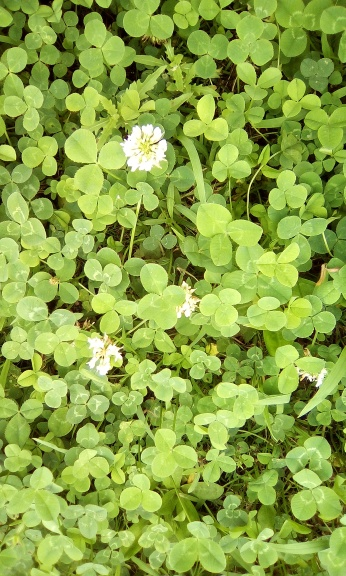4leaf: (136, 263, 186, 330)
